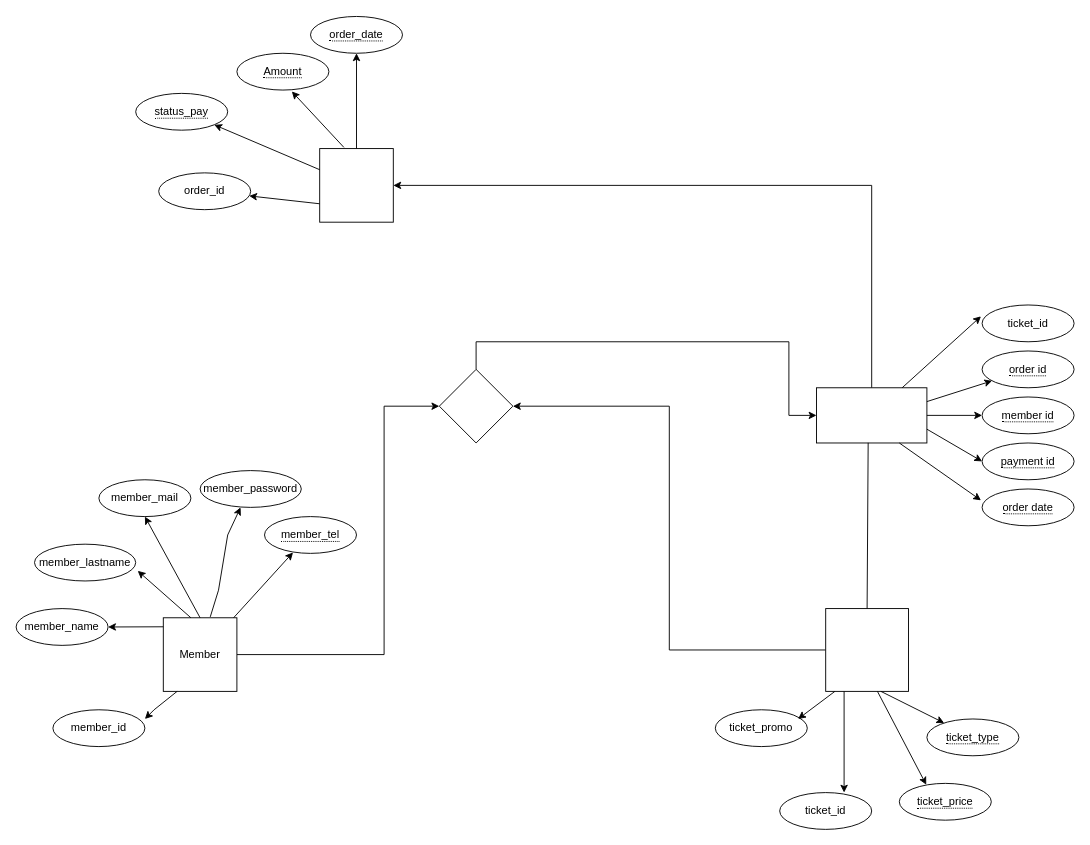
This 1090x845 diagram has some shape labels left out. Each missing label, with the box of its shape:
buy: (438, 368, 513, 443)
order: (816, 387, 927, 443)
order detail: (319, 148, 393, 222)
ticket: (825, 608, 908, 691)
